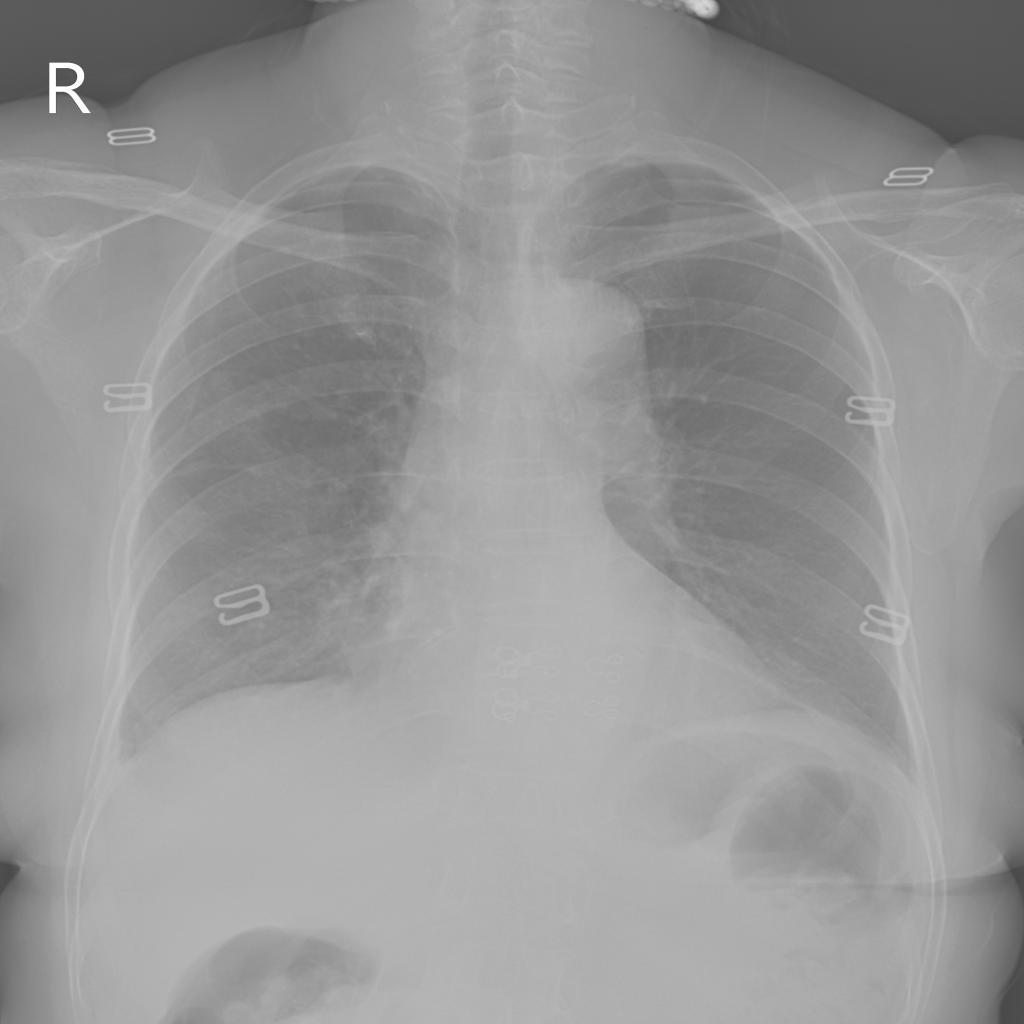Nodule: (559, 396, 659, 468)
